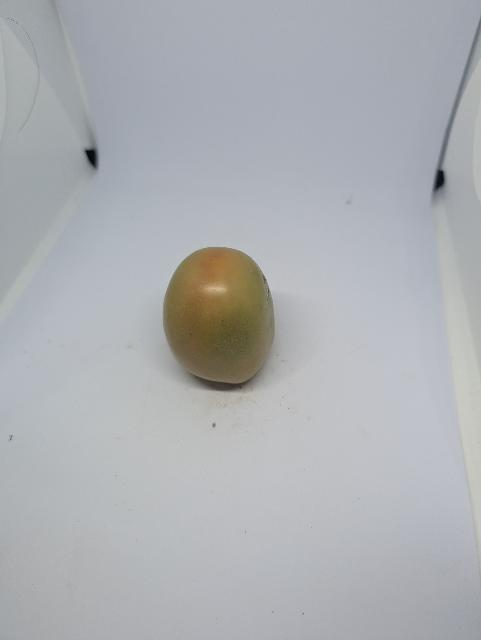breaker: (157, 235, 291, 400)
